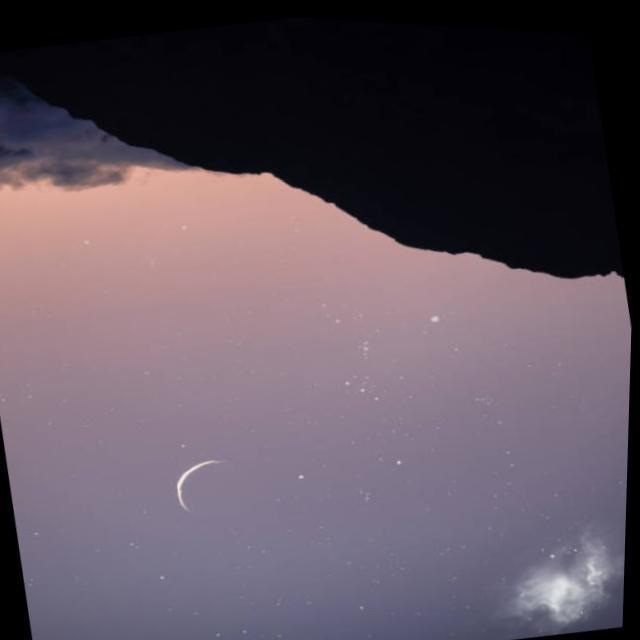moon: (174, 443, 274, 542)
